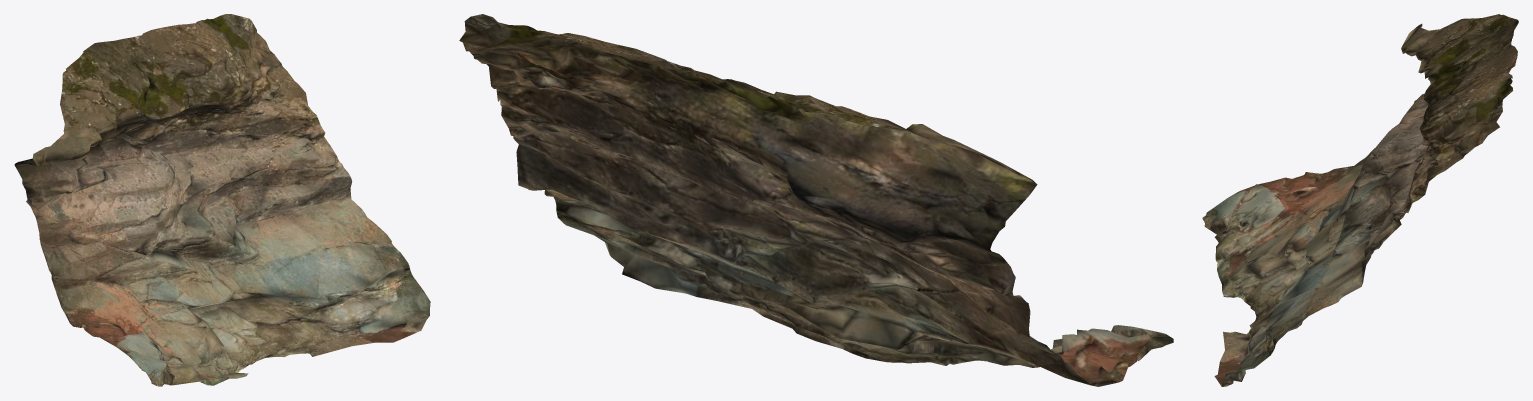
Rendered from rock_face_01.glb.
3 renders of one model, left to right at view 1: azimuth 30°, elevation 25°; view 2: azimuth 150°, elevation 25°; view 3: azimuth 270°, elevation 25°, orthographic. The views are drawn at different scales.
Visible parts, largest first — view 1: rock_face_01; view 2: rock_face_01; view 3: rock_face_01.
Part boxes in pixels (box(x1,y1,x2,y2)): rock_face_01: box(14, 14, 430, 386); rock_face_01: box(459, 14, 1173, 386); rock_face_01: box(1202, 14, 1518, 386).
Bounding box in the file's own units: 4.94 × 3.56 × 3.82.
Materials: 1 (1 with a texture image).
